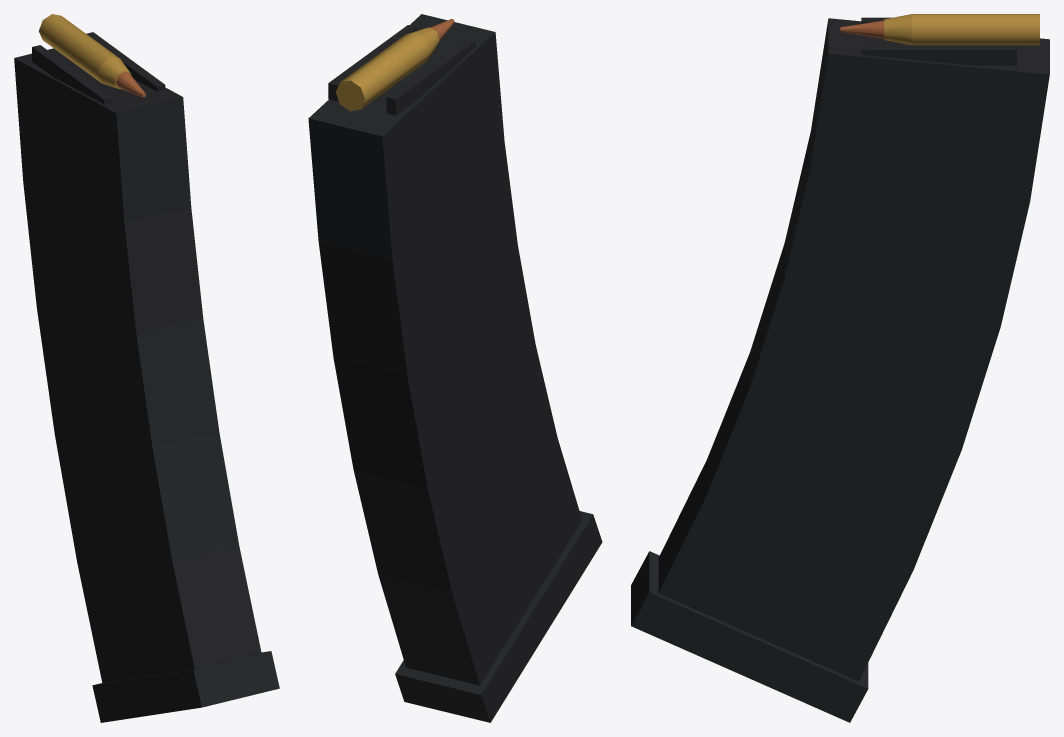
Rendered from mag-rifle.glb.
The picture shows the model from 3 angles, left to right: view 1: azimuth 30°, elevation 25°; view 2: azimuth 150°, elevation 25°; view 3: azimuth 270°, elevation 25°; orthographic projection. The views are drawn at different scales.
Parts seen in each view (by area): view 1: mag-rifle; view 2: mag-rifle; view 3: mag-rifle.
Boxes of the visible parts, bbox=[...] form: mag-rifle: bbox=[14, 14, 279, 722]; mag-rifle: bbox=[308, 14, 602, 722]; mag-rifle: bbox=[631, 14, 1049, 722].
Bounding box in the file's own units: 0.028 × 0.2181 × 0.1203.
Materials: 1 (1 with a texture image).
